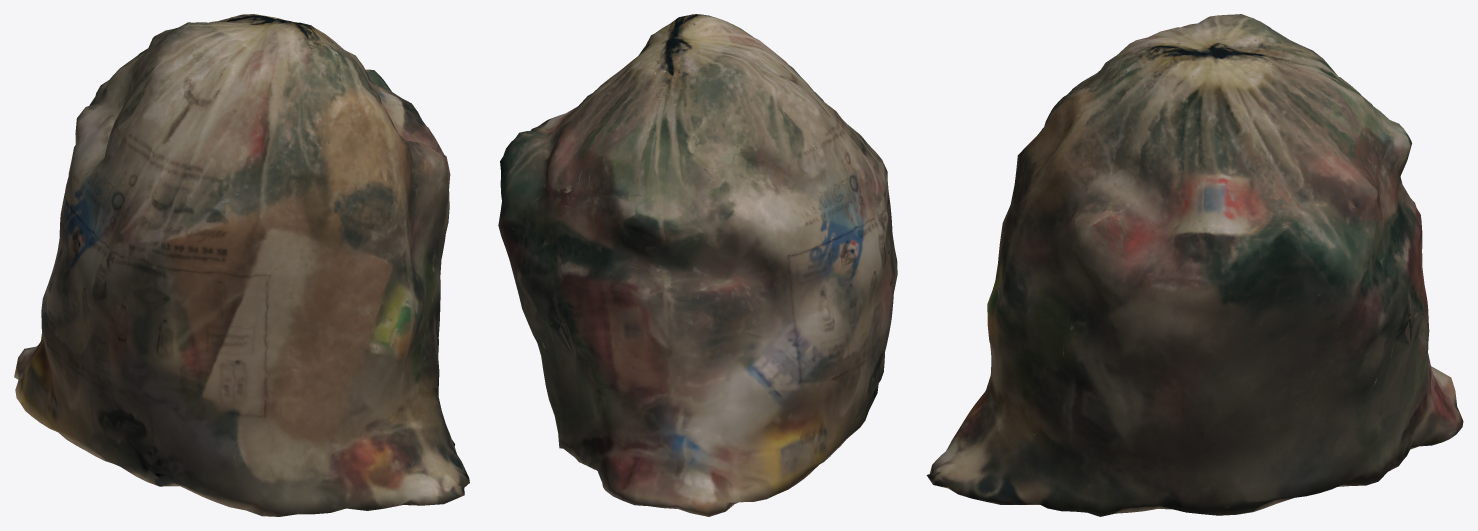
The model's file is trash_bag.glb.
3 renders of one model, left to right at view 1: azimuth 30°, elevation 25°; view 2: azimuth 150°, elevation 25°; view 3: azimuth 270°, elevation 25°, orthographic. The views are drawn at different scales.
Visible parts, largest first — view 1: texturedMesh.001_0; view 2: texturedMesh.001_0; view 3: texturedMesh.001_0.
Boxes of the visible parts, x1,y1,x2,y2 form: texturedMesh.001_0: [14, 14, 469, 516]; texturedMesh.001_0: [498, 14, 897, 516]; texturedMesh.001_0: [926, 14, 1463, 516].
Bounding box in the file's own units: 0.5073 × 0.5398 × 0.6278.
1 material, 1 textured.
